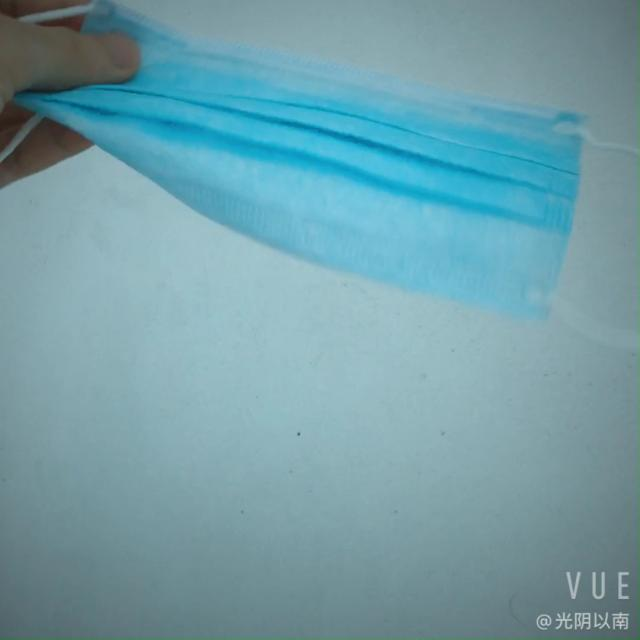non-organic waste: (0, 33, 608, 279)
